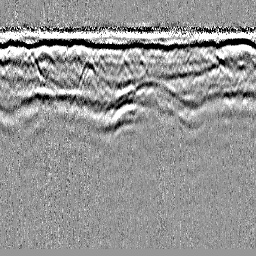cavity: (116, 53, 137, 79)
